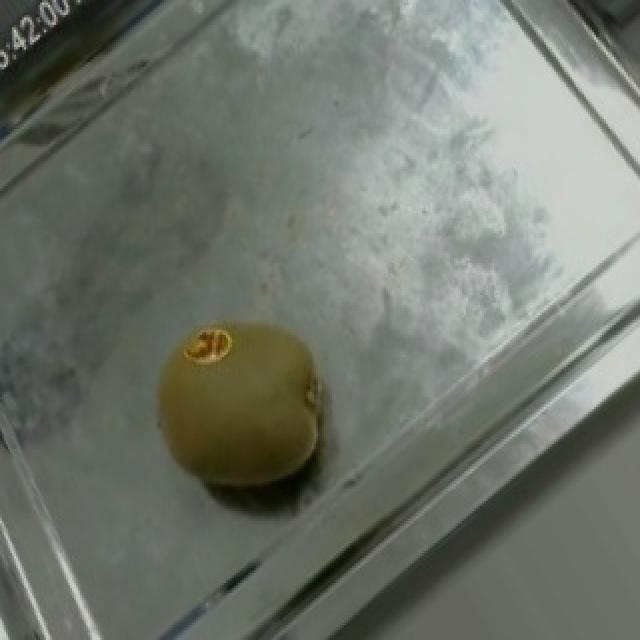Fruit: (114, 288, 368, 531)
